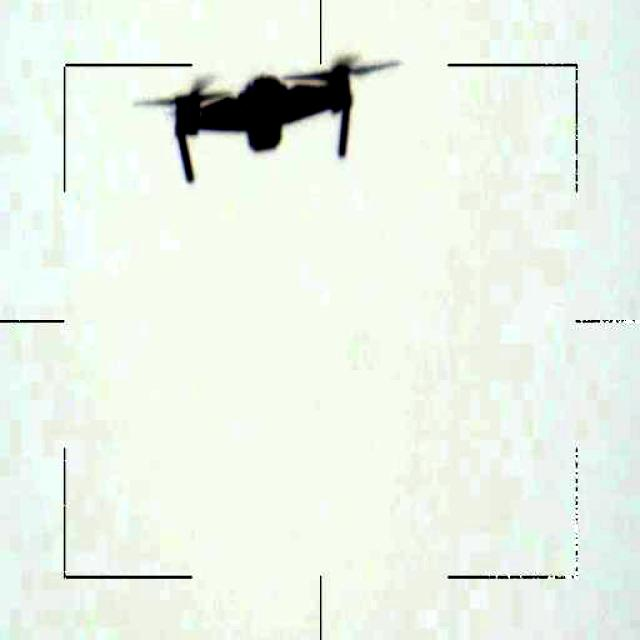bird: (122, 50, 396, 188)
